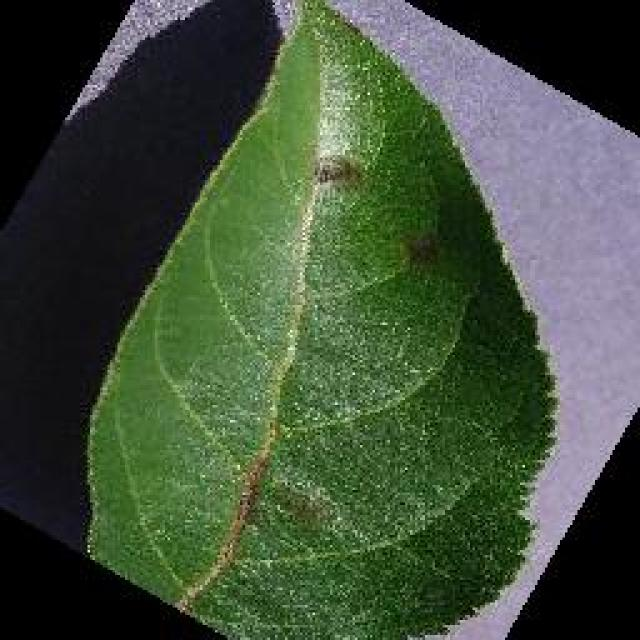apple scab disease: (80, 0, 562, 638)
